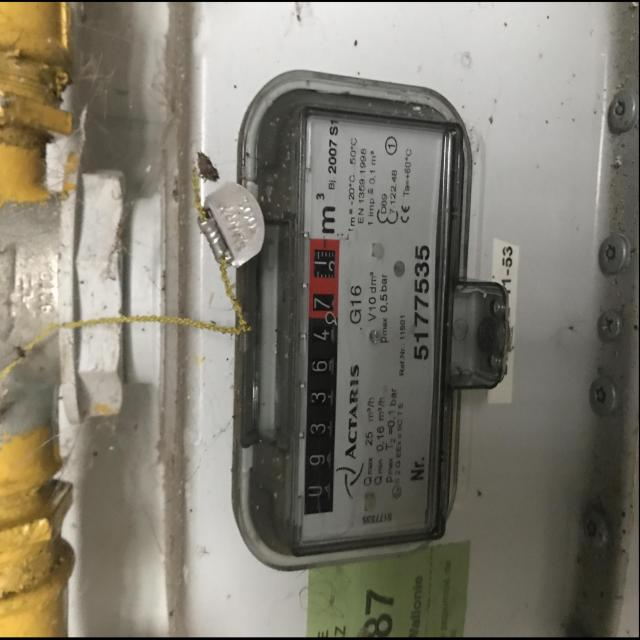gaz_meter: (294, 105, 448, 555)
indication: (301, 240, 340, 516)
